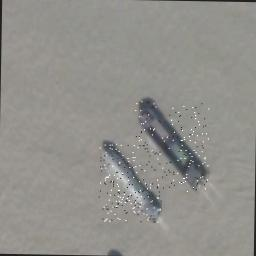boat: (134, 102, 210, 192), (98, 144, 162, 222)
